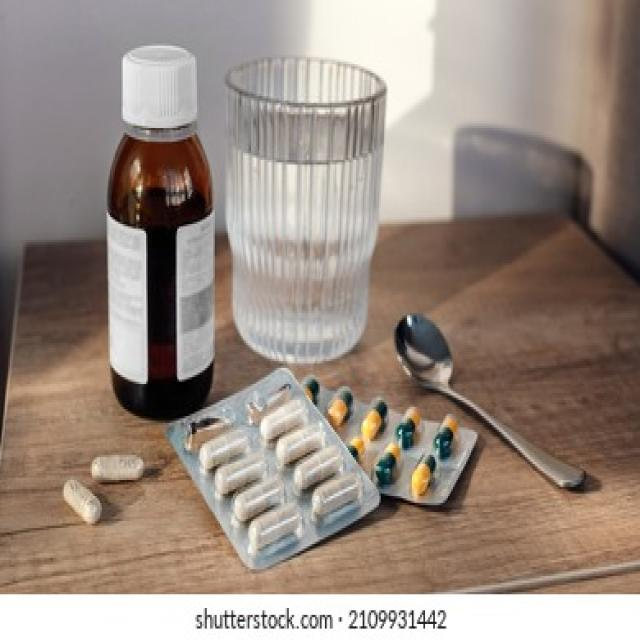B3: (97, 39, 225, 425), (174, 372, 384, 567)
